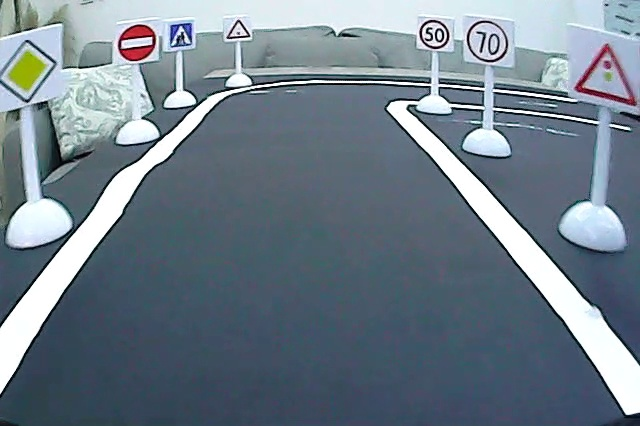do not enter: (116, 20, 157, 65)
green light: (225, 17, 252, 42)
red light: (570, 33, 640, 111)
school crossing: (167, 21, 195, 50)
speed limit 50: (419, 18, 452, 52)
speed limit 70: (465, 17, 510, 65)
